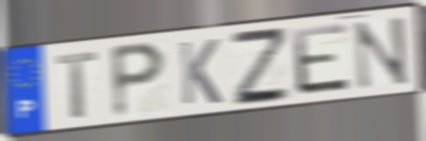E: (289, 20, 354, 98)
K: (176, 36, 224, 107)
N: (352, 14, 413, 93)
P: (108, 40, 169, 121)
T: (54, 48, 101, 122)
Z: (228, 27, 294, 109)
